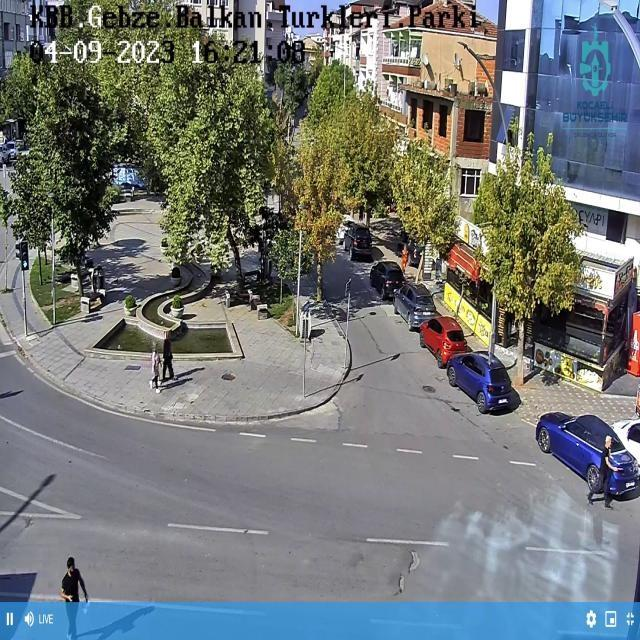Car: (536, 409, 638, 498), (448, 349, 514, 412), (420, 316, 470, 366), (393, 280, 436, 330), (370, 260, 406, 300)
Van: (343, 224, 373, 261)
